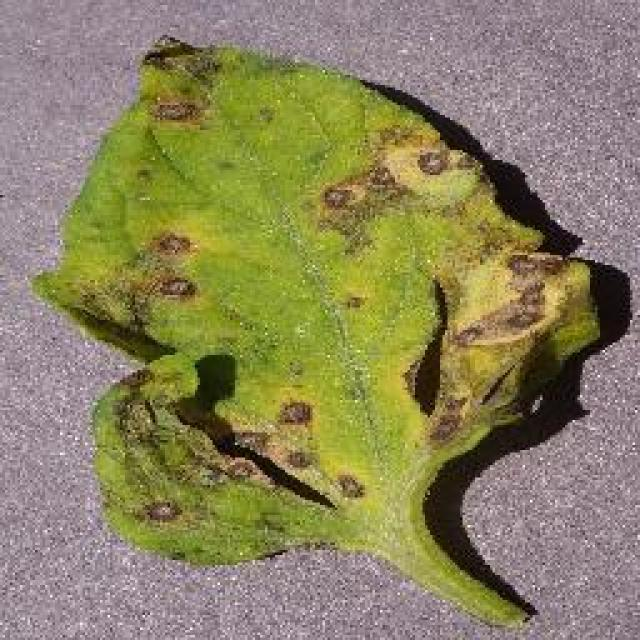Tomato target spot leaf: (34, 36, 601, 572)
